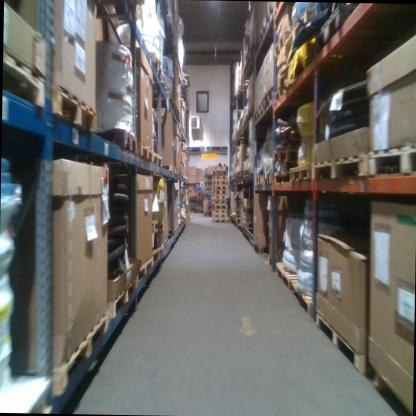pallet: (16, 302, 109, 396), (314, 307, 369, 378), (2, 44, 49, 112), (47, 75, 98, 136), (366, 355, 410, 416), (104, 263, 138, 321), (312, 154, 368, 185), (366, 143, 400, 181), (96, 126, 138, 155), (273, 259, 310, 290), (291, 279, 317, 319), (289, 159, 314, 190), (132, 250, 154, 285), (145, 48, 163, 82), (135, 137, 153, 162), (272, 167, 292, 185), (271, 146, 298, 159), (275, 82, 288, 106), (150, 215, 164, 234), (253, 242, 270, 257), (152, 146, 161, 169), (167, 222, 180, 237), (161, 233, 169, 257), (263, 88, 272, 108), (211, 174, 227, 185), (152, 242, 162, 259), (255, 171, 265, 188), (162, 159, 173, 174), (264, 169, 273, 187), (167, 89, 174, 112), (173, 102, 180, 124), (163, 73, 168, 100), (258, 99, 264, 120), (242, 219, 253, 230), (253, 106, 259, 125), (247, 101, 254, 117), (212, 168, 227, 174), (211, 212, 226, 218), (211, 190, 227, 195), (211, 195, 227, 200), (211, 203, 227, 208), (171, 165, 178, 176), (211, 185, 226, 190), (211, 208, 226, 213), (211, 199, 227, 203), (211, 218, 227, 222), (243, 206, 247, 216), (177, 168, 181, 177), (244, 168, 249, 174), (243, 114, 246, 124), (240, 120, 243, 129), (238, 170, 242, 176)
pallet_truck: (193, 179, 203, 214)
